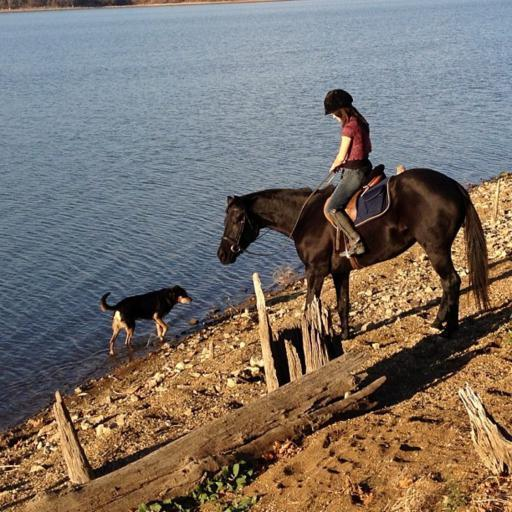horse: (214, 170, 493, 338)
